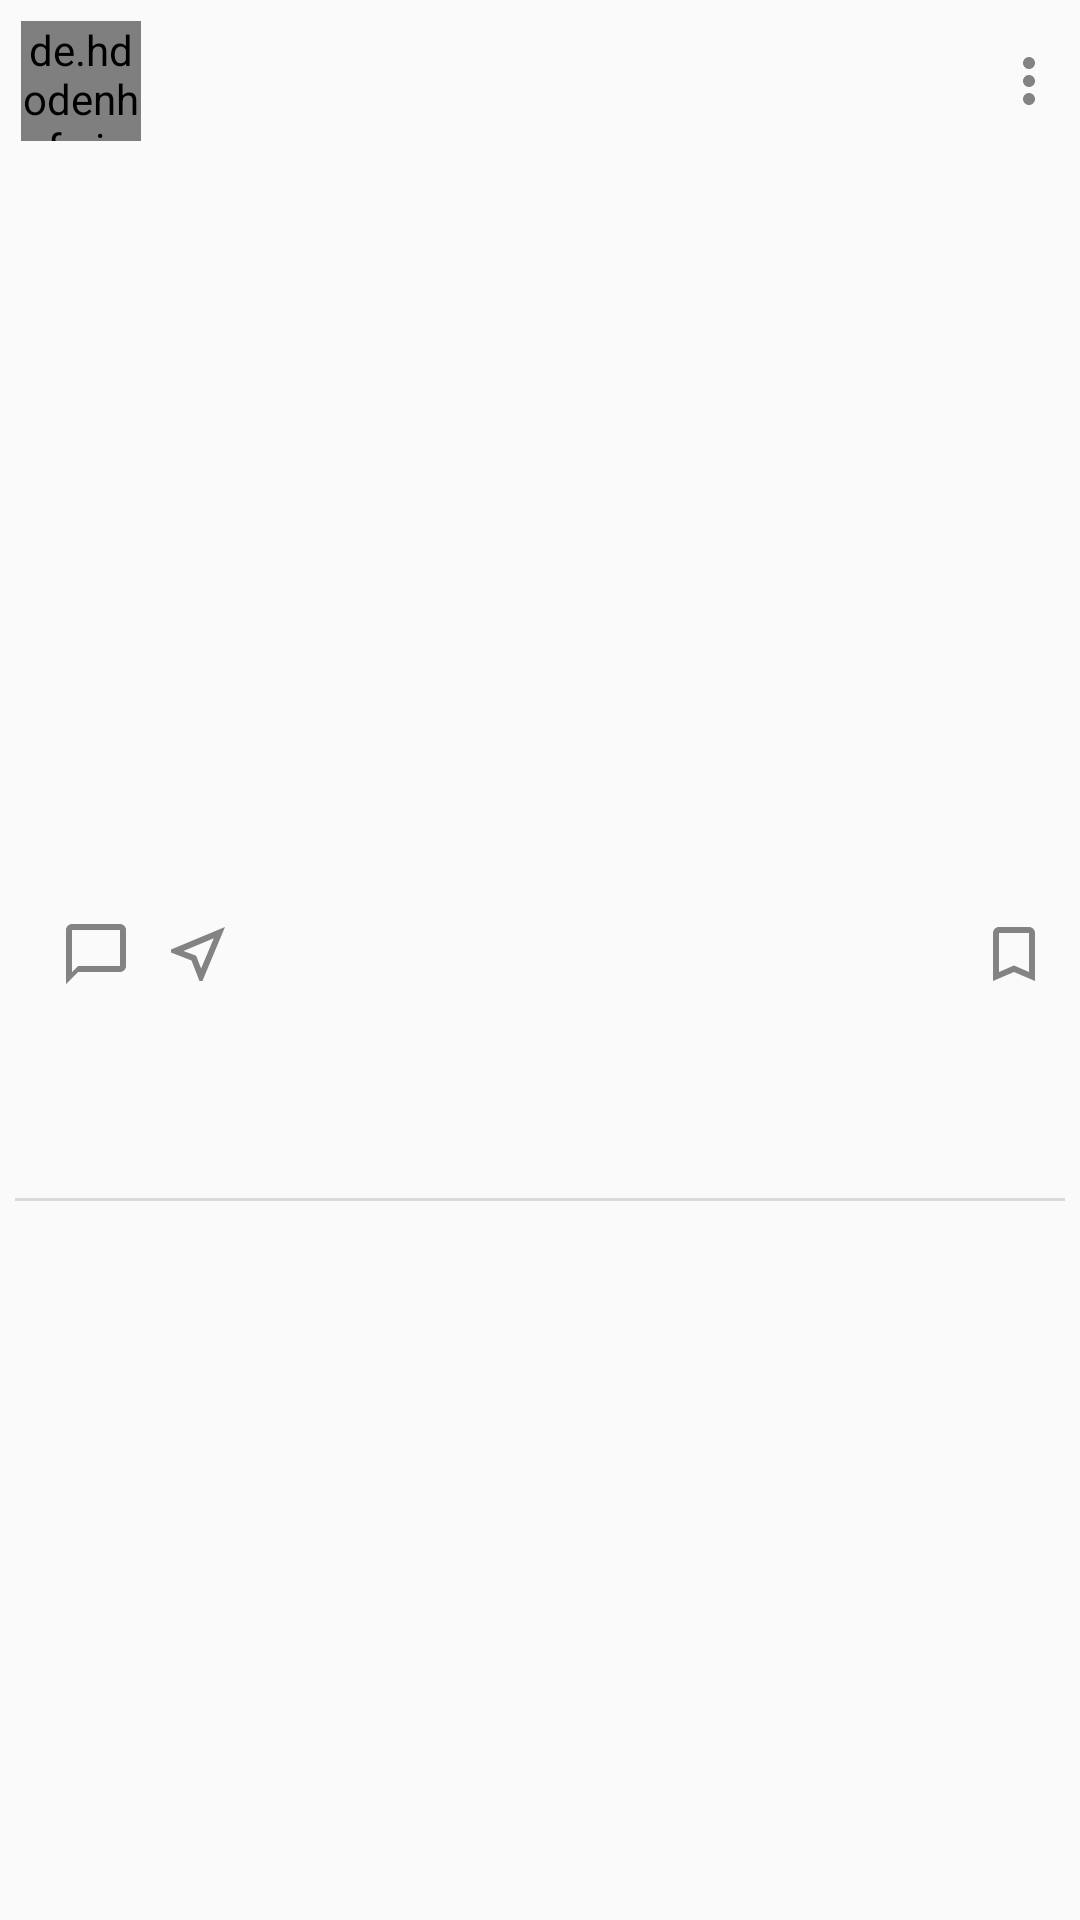

Screen size 1080×1920. Icon name, then its center in pixels as (x=x, y=y):
bookmark: (x=1014, y=954)
comments: (x=96, y=954)
more: (x=1029, y=81)
